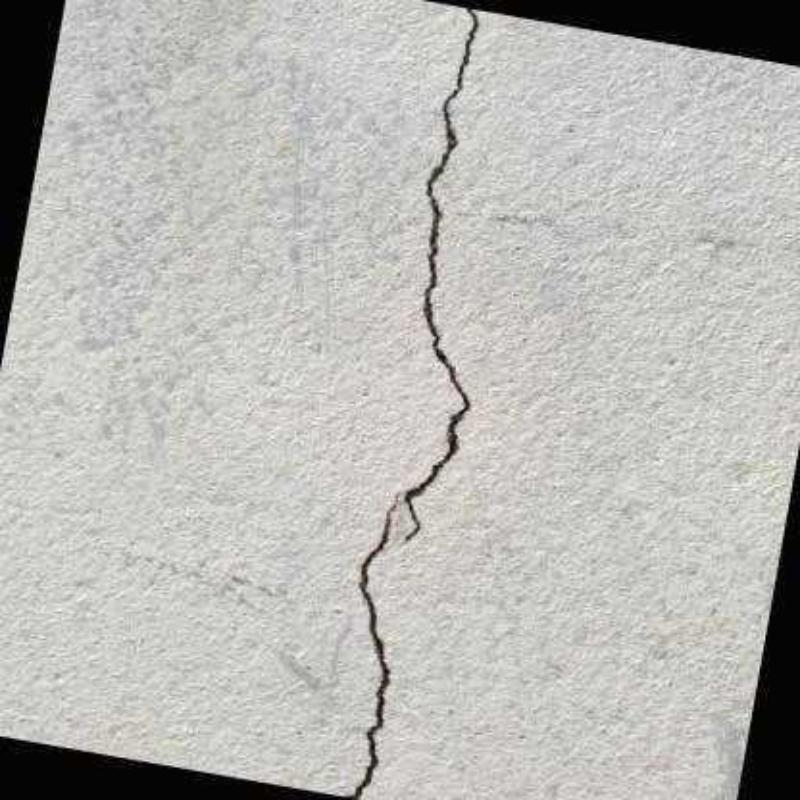crack: (402, 9, 479, 542), (344, 499, 397, 800)
